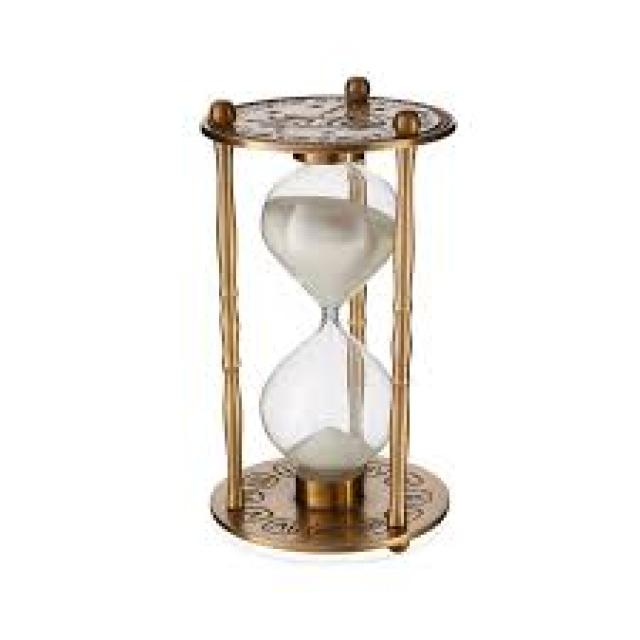clock: (186, 57, 487, 558)
